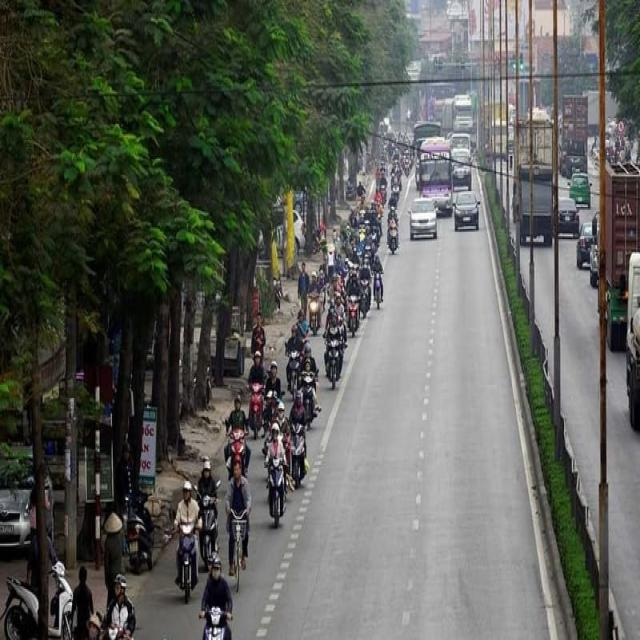Bus: (418, 142, 452, 215)
Dump Truck: (433, 94, 475, 130)
car: (410, 199, 438, 245), (454, 194, 480, 231), (452, 149, 472, 193)
motobyte: (203, 559, 235, 640), (172, 483, 194, 592), (262, 430, 284, 522), (199, 460, 215, 564), (228, 399, 247, 479), (290, 400, 306, 486), (261, 359, 280, 425), (300, 354, 315, 426), (286, 331, 300, 400), (326, 319, 340, 386), (252, 358, 264, 431), (334, 290, 347, 352), (309, 274, 320, 334), (348, 275, 358, 334), (373, 255, 382, 308), (360, 262, 369, 310), (388, 212, 397, 257), (369, 216, 378, 252), (331, 274, 343, 297), (341, 259, 352, 283), (388, 193, 397, 218), (352, 250, 360, 278), (374, 188, 381, 218), (364, 235, 372, 261), (363, 212, 371, 236), (380, 177, 386, 204), (358, 205, 365, 226), (392, 166, 402, 180), (392, 176, 399, 193), (379, 159, 386, 176), (404, 157, 410, 176)
